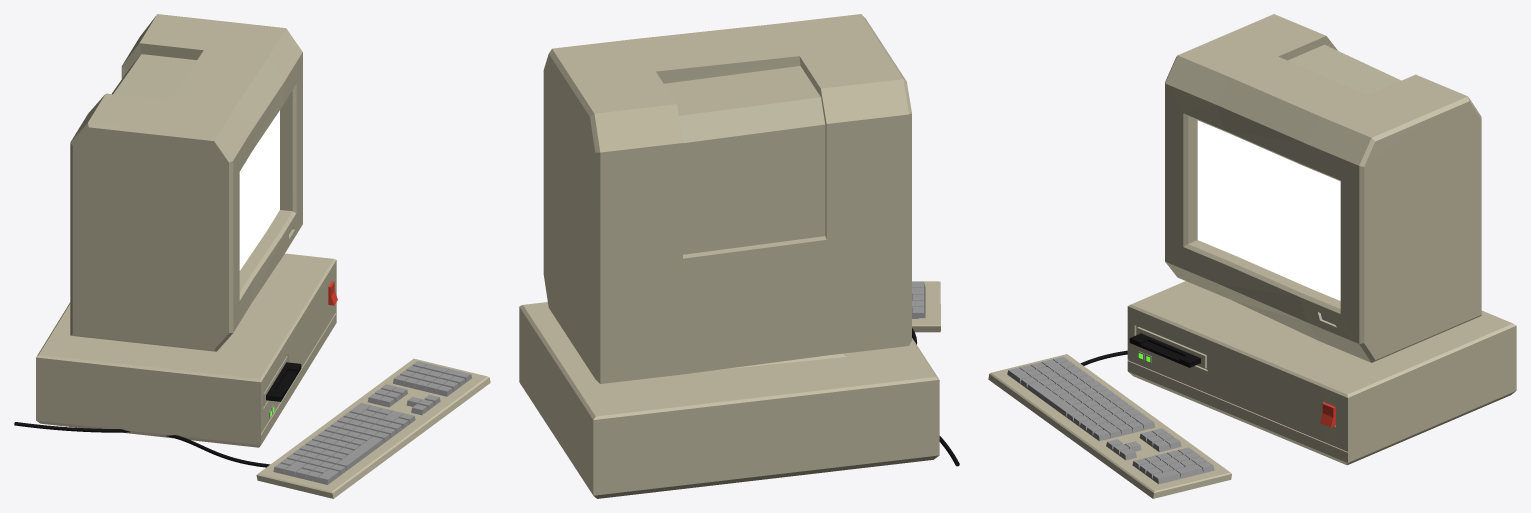
The model's file is computer2.glb.
The picture shows the model from 3 angles, left to right: view 1: azimuth 30°, elevation 25°; view 2: azimuth 150°, elevation 25°; view 3: azimuth 270°, elevation 25°; orthographic projection. The views are drawn at different scales.
Visible parts, largest first — view 1: computer2; view 2: computer2; view 3: computer2.
Boxes of the visible parts, x1,y1,x2,y2 form: computer2: [14, 14, 490, 498]; computer2: [519, 14, 959, 498]; computer2: [988, 14, 1516, 498].
Size of the model in its own units: 0.6287 by 0.4545 by 0.688.
